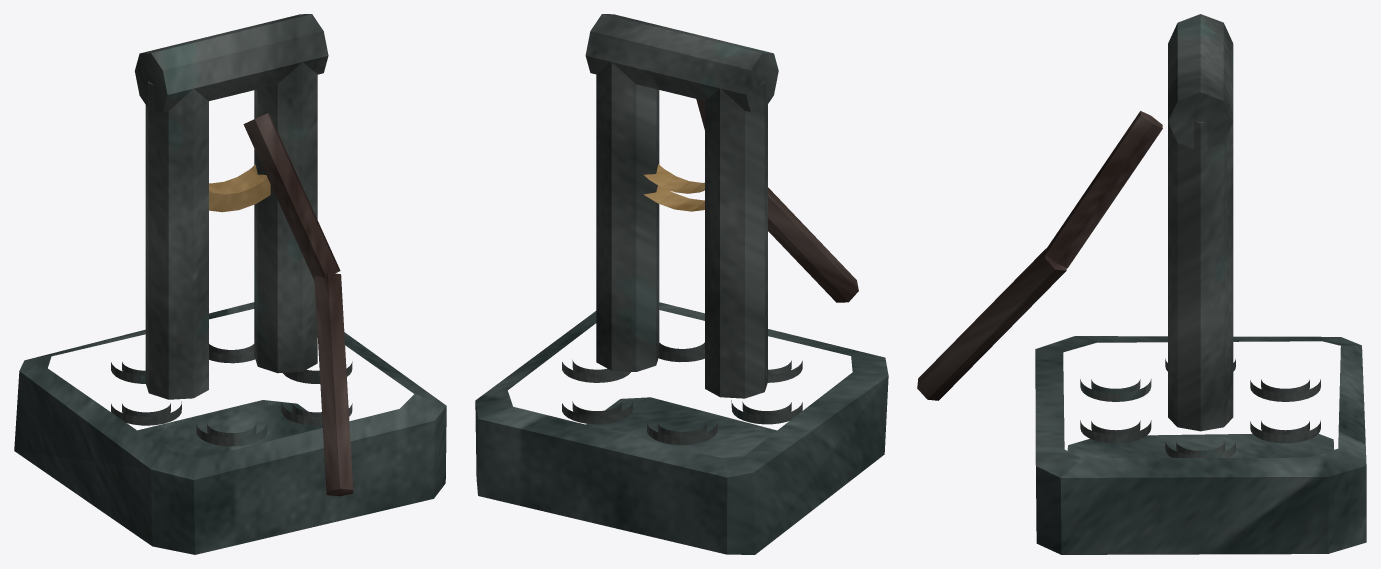
The model's file is 0677_rope_anchor_02.glb.
3 renders of one model, left to right at view 1: azimuth 30°, elevation 25°; view 2: azimuth 150°, elevation 25°; view 3: azimuth 270°, elevation 25°, orthographic.
Parts seen in each view (by area): view 1: iron, stone_dark, wood_dark, brass; view 2: iron, stone_dark, wood_dark, brass; view 3: stone_dark, iron, wood_dark.
Part boxes in pixels (x1,y1,x2,y2): iron: (111,14,352,446); stone_dark: (14,302,446,554); wood_dark: (243,113,353,496); brass: (209,164,270,212); iron: (562,14,802,444); stone_dark: (475,302,888,554); wood_dark: (696,99,858,302); brass: (643,164,704,211); stone_dark: (1035,336,1366,554); iron: (1080,14,1320,457); wood_dark: (917,111,1162,400).
Size of the model in its own units: 1.23 by 1.78 by 1.65.
4 materials, 4 textured.
